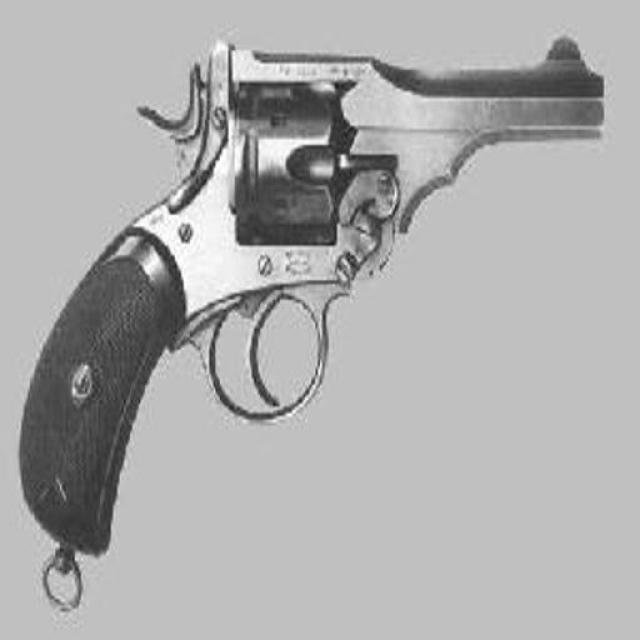pistol: (19, 31, 605, 551)
